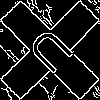U: (25, 25, 83, 84)
